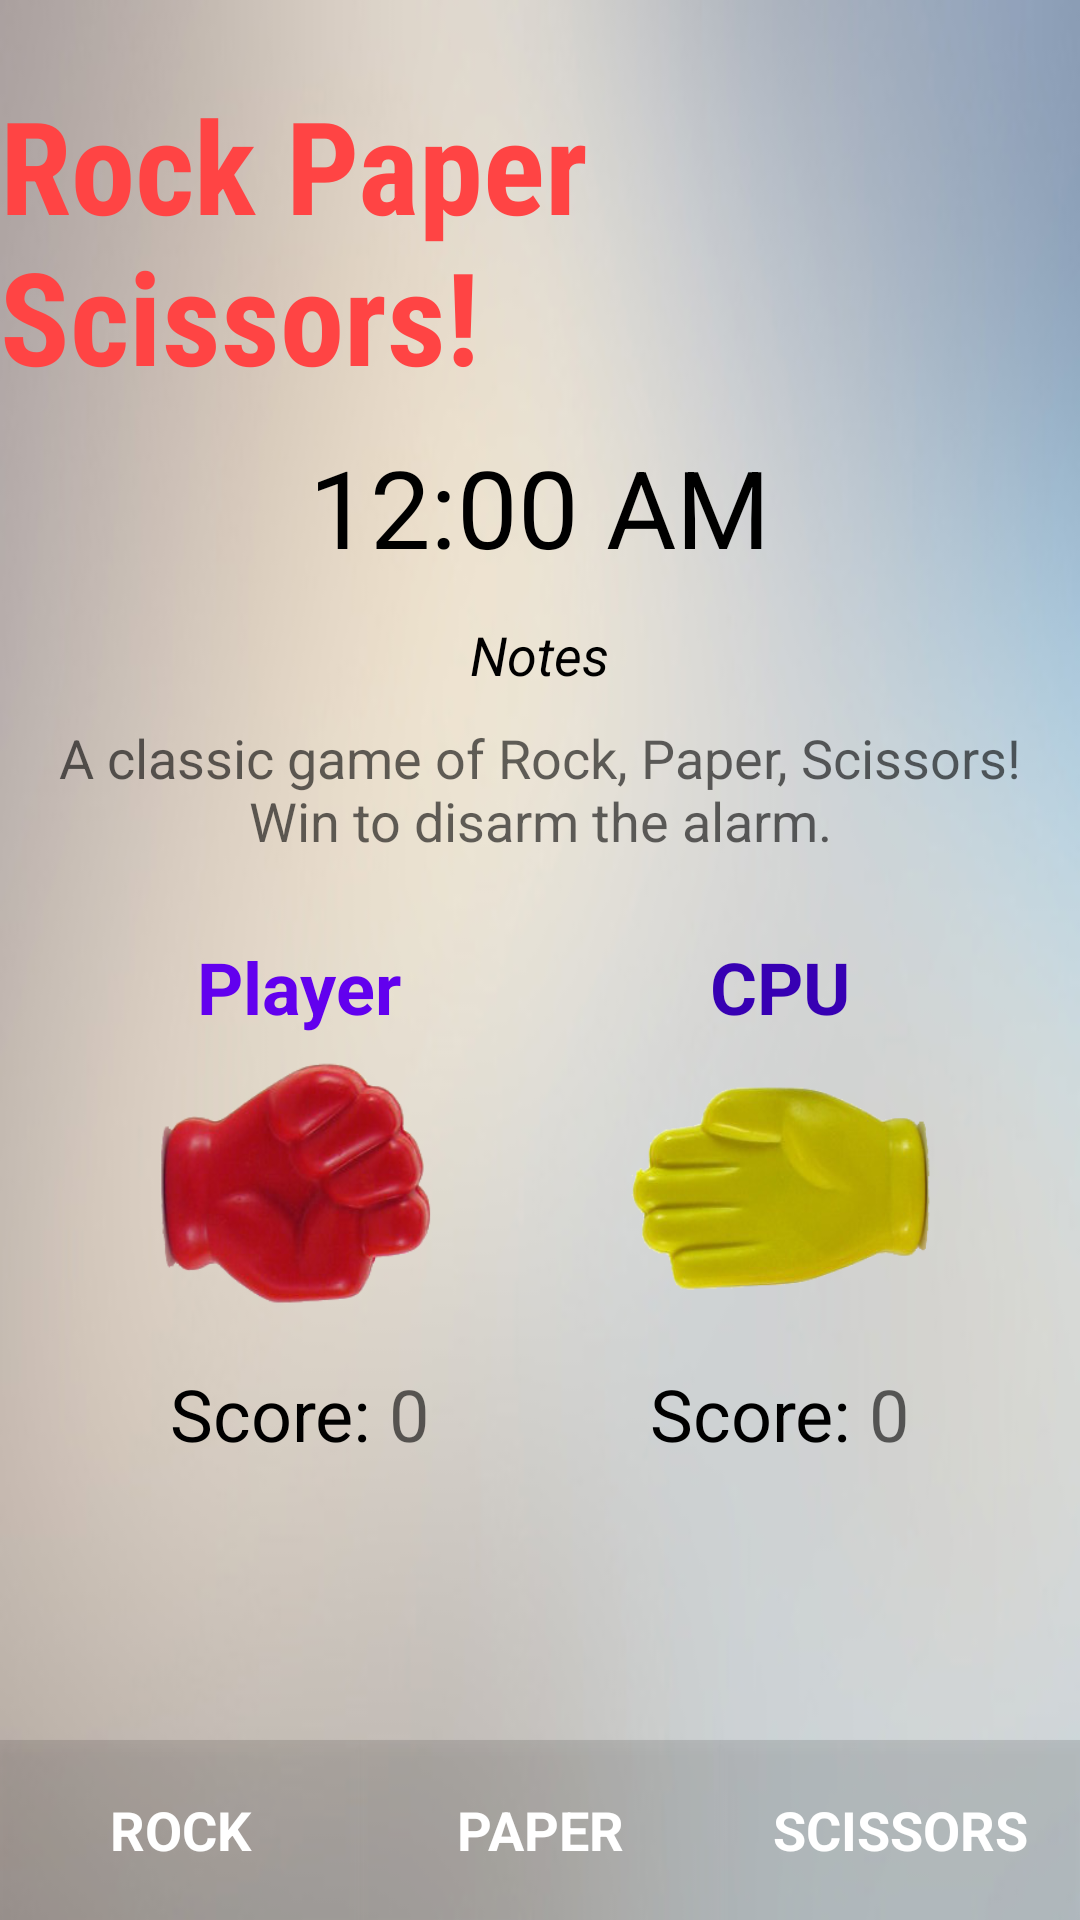

Icons on this 1080w x 1920h Android screen, each with its box as box(x1, y1, x2, y2):
rock: box(161, 1064, 430, 1303)
